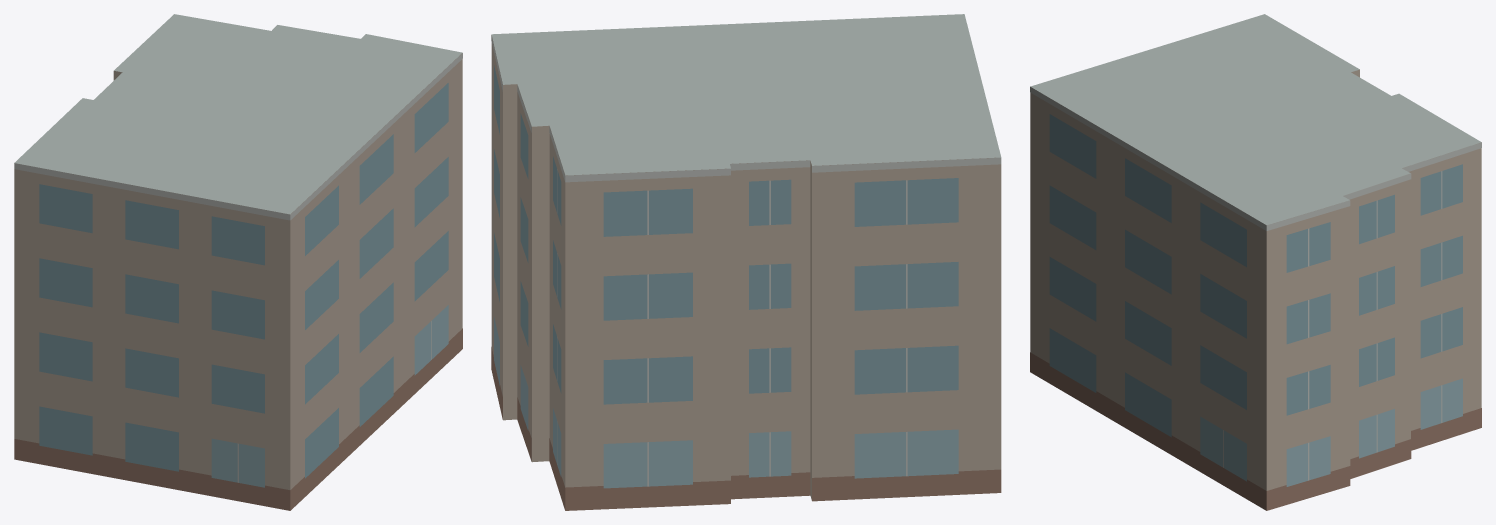
File: survey-upis-32732744.glb
The picture shows the model from 3 angles, left to right: view 1: azimuth 30°, elevation 25°; view 2: azimuth 150°, elevation 25°; view 3: azimuth 270°, elevation 25°; orthographic projection. The views are drawn at different scales.
Visible parts, largest first — view 1: survey-upis-32732744.tmp; view 2: survey-upis-32732744.tmp; view 3: survey-upis-32732744.tmp.
Boxes of the visible parts, x1,y1,x2,y2 form: survey-upis-32732744.tmp: [14, 14, 462, 510]; survey-upis-32732744.tmp: [491, 14, 1001, 510]; survey-upis-32732744.tmp: [1030, 14, 1481, 510].
Bounding box in the file's own units: 18.9 × 11.9 × 17.07.
